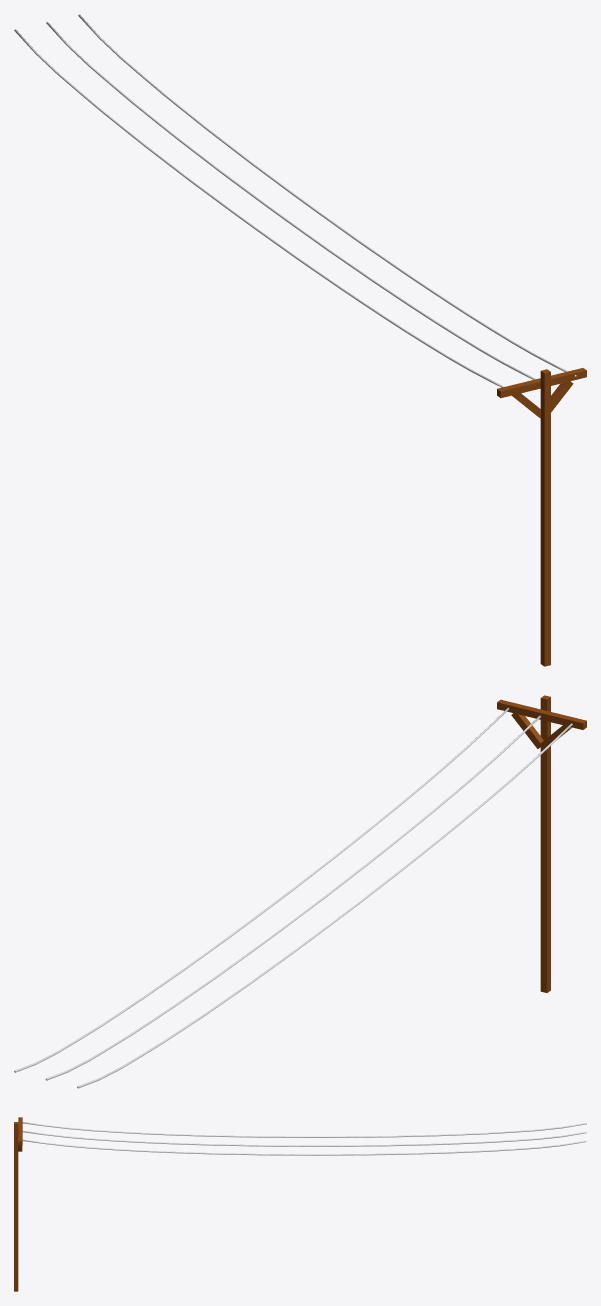
The model's file is powerlines.fbx.
3 renders of one model, top to bottom at view 1: azimuth 30°, elevation 25°; view 2: azimuth 150°, elevation 25°; view 3: azimuth 270°, elevation 25°, orthographic. The views are drawn at different scales.
Visible parts, largest first — view 1: Pole, lines, lines.002, lines.001, CrossPole; view 2: Pole, lines.001, lines, lines.002, CrossPole, PoleSupports; view 3: lines, lines.002, lines.001, Pole.
Boxes of the visible parts, x1,y1,x2,y2 form: Pole: [540, 369, 550, 666]; lines: [78, 14, 576, 377]; lines.002: [46, 22, 536, 379]; lines.001: [14, 29, 504, 387]; CrossPole: [497, 368, 586, 397]; Pole: [540, 695, 550, 992]; lines.001: [77, 723, 572, 1088]; lines: [14, 707, 509, 1072]; lines.002: [45, 715, 540, 1080]; CrossPole: [497, 699, 586, 729]; PoleSupports: [511, 713, 571, 749]; lines: [22, 1139, 586, 1155]; lines.002: [22, 1131, 586, 1146]; lines.001: [22, 1122, 586, 1137]; Pole: [14, 1122, 18, 1291].
Bounding box in the file's own units: 200 × 650 × 2013.
